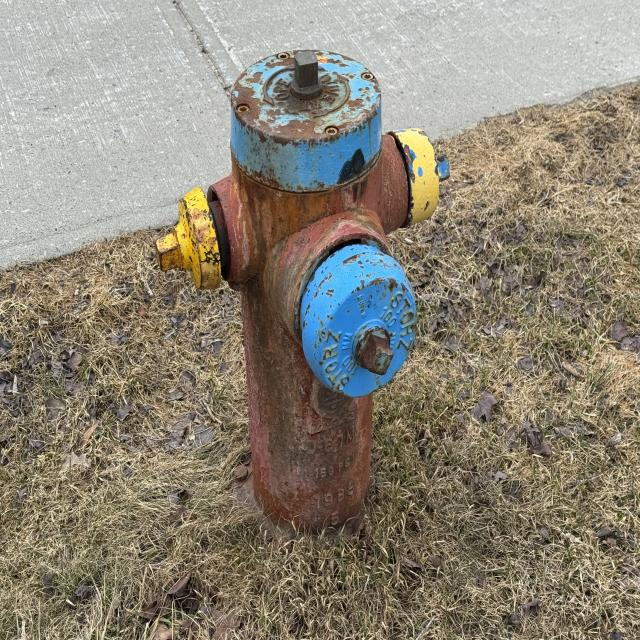Fire hydrant: (152, 48, 450, 559)
